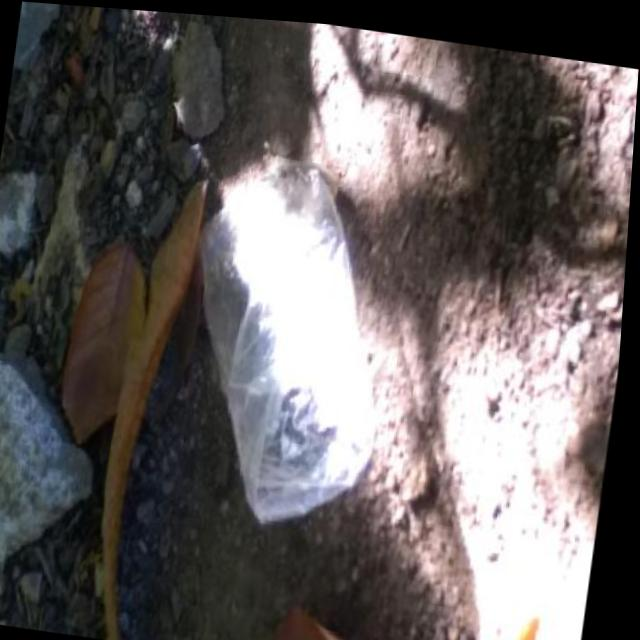plastic: (162, 146, 410, 541)
